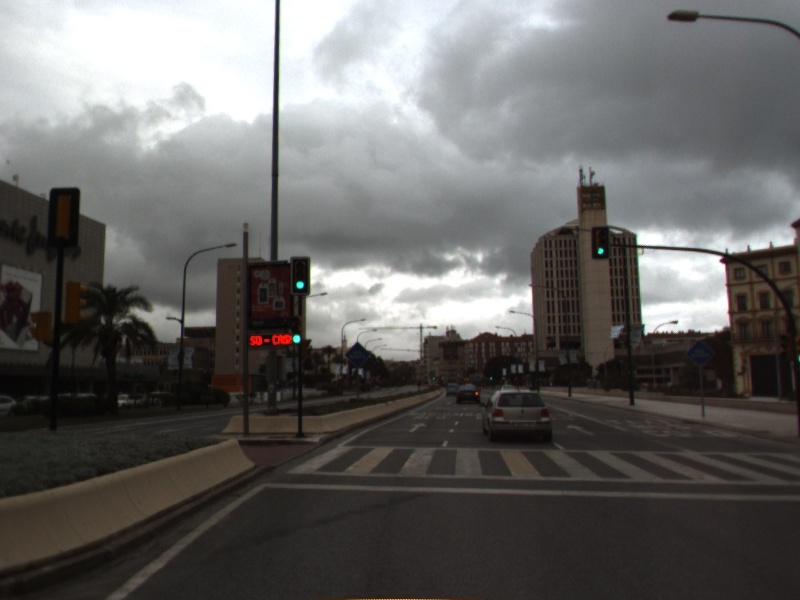STRAIGHT: (564, 421, 597, 438), (406, 420, 430, 435)
